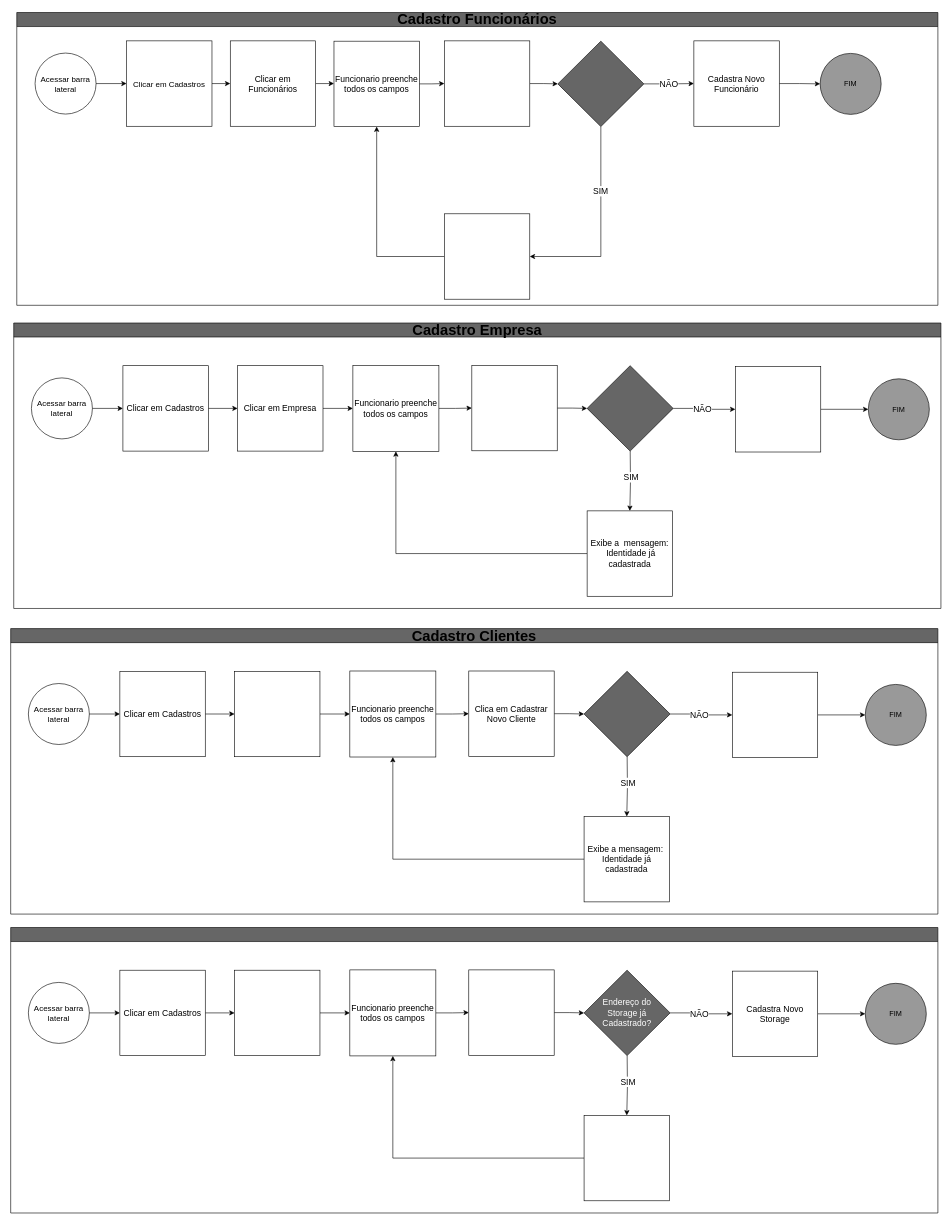
Image size: 952x1224. Some labels were removed from this diagram. The shapes that lost their labels are listed below. From the top down, each one's box as (x1, y1, x2, y2) in pixels, then its label:
(444, 40, 530, 126): Clica em Cadastrar Novo Funcionário
(557, 41, 644, 127): Identidade do Funcionário já cadastrado?
(444, 213, 530, 299): Exibe a mensagem: Identidade já cadastrada.
(471, 365, 557, 451): Clica em Cadastrar Nova Empresa
(587, 365, 673, 451): Identidade da Empresa já Cadastrada?
(735, 366, 821, 452): Cadastra Nova Empresa
(234, 671, 320, 757): Clicar em Cliente
(583, 671, 670, 757): Identidade do Cliente já Cadastrado?
(732, 672, 818, 758): Cadastra Novo Cliente
(234, 970, 320, 1056): Clicar em Storages
(468, 969, 554, 1055): Clica em Cadastrar Novo Storage
(10, 927, 938, 1213): Cadastro Storage
(583, 1115, 669, 1201): Exibe a mensagem: Storage já cadastrado
